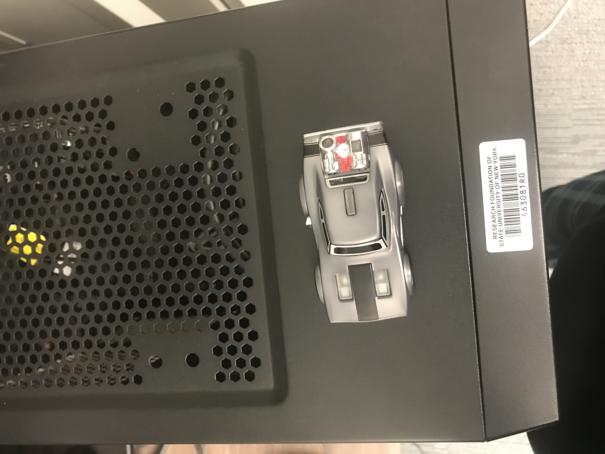Charger: (296, 119, 417, 326)
